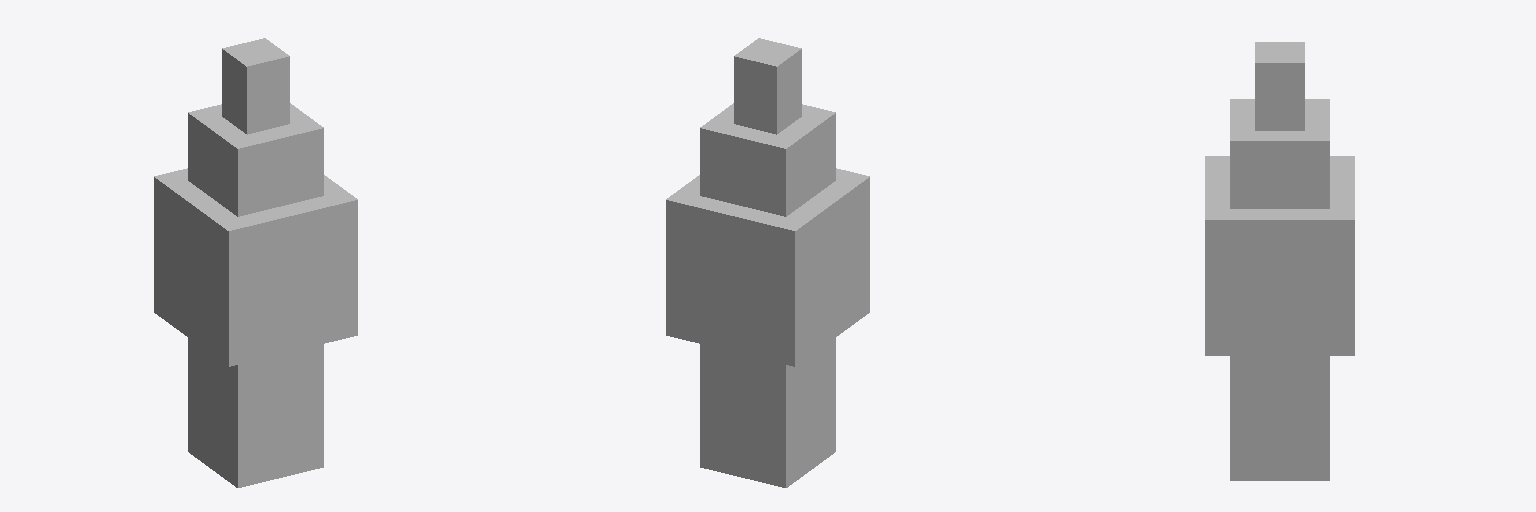
Rendered from missile_head_homing.obj.
The picture shows the model from 3 angles: view 1: azimuth 30°, elevation 25°; view 2: azimuth 150°, elevation 25°; view 3: azimuth 270°, elevation 25°; orthographic projection.
Parts seen in each view (by area): view 1: group_21, group_22, group_20, group_19; view 2: group_21, group_22, group_20, group_19; view 3: group_21, group_22, group_20, group_19.
Part boxes in pixels (bbox=[...]): group_21: bbox=[154, 168, 357, 366]; group_22: bbox=[188, 338, 323, 487]; group_20: bbox=[188, 103, 323, 216]; group_19: bbox=[222, 38, 289, 134]; group_21: bbox=[666, 168, 869, 366]; group_22: bbox=[700, 338, 835, 487]; group_20: bbox=[700, 103, 835, 216]; group_19: bbox=[734, 38, 801, 134]; group_21: bbox=[1205, 156, 1354, 355]; group_22: bbox=[1230, 356, 1329, 480]; group_20: bbox=[1230, 99, 1329, 208]; group_19: bbox=[1255, 42, 1304, 130].
Bounding box in the file's own units: 37.8 × 113 × 37.8.